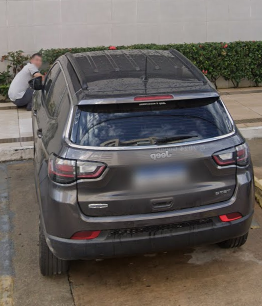car: (23, 48, 261, 288)
